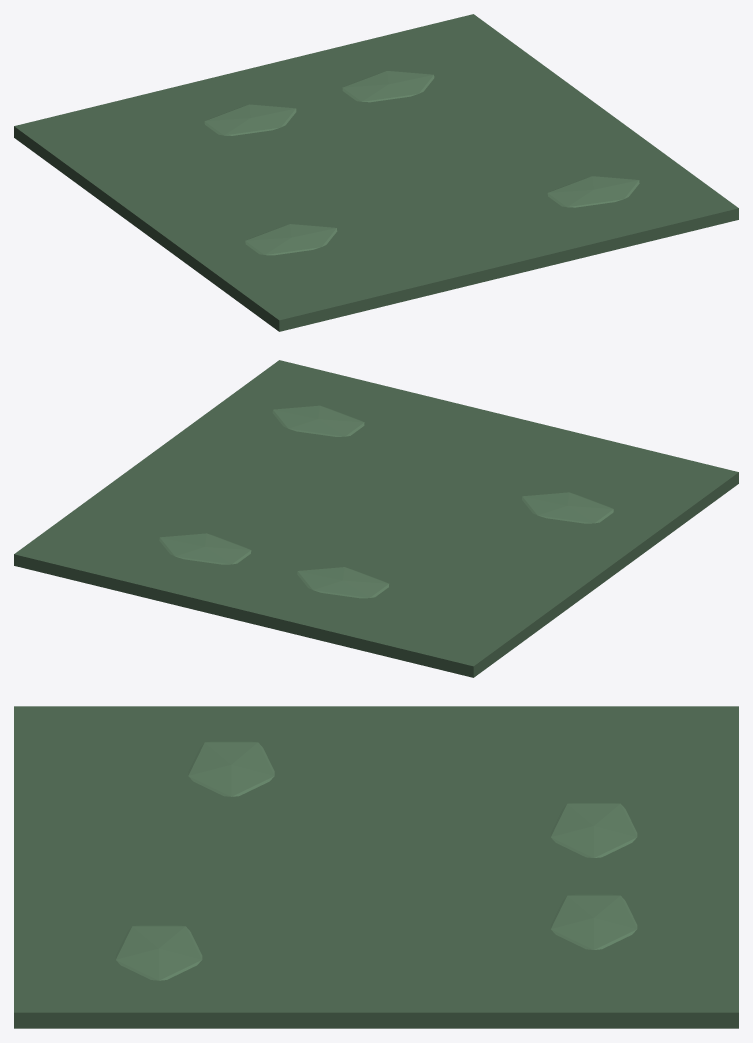
File: SH10_L02_Ground.fbx
3 renders of one model, top to bottom at view 1: azimuth 30°, elevation 25°; view 2: azimuth 150°, elevation 25°; view 3: azimuth 270°, elevation 25°, orthographic. The views are drawn at different scales.
Visible parts, largest first — view 1: SH10_L02_Ground; view 2: SH10_L02_Ground; view 3: SH10_L02_Ground.
Part boxes in pixels (x1,y1,x2,y2): SH10_L02_Ground: (14,14,738,331); SH10_L02_Ground: (14,360,738,677); SH10_L02_Ground: (14,706,738,1028).
Size of the model in its own units: 1000 by 28.5 by 1000.
